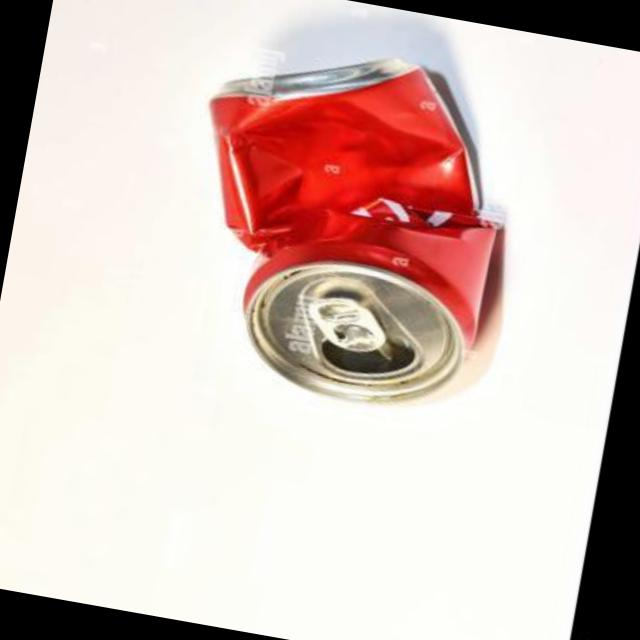metal: (206, 61, 491, 403)
